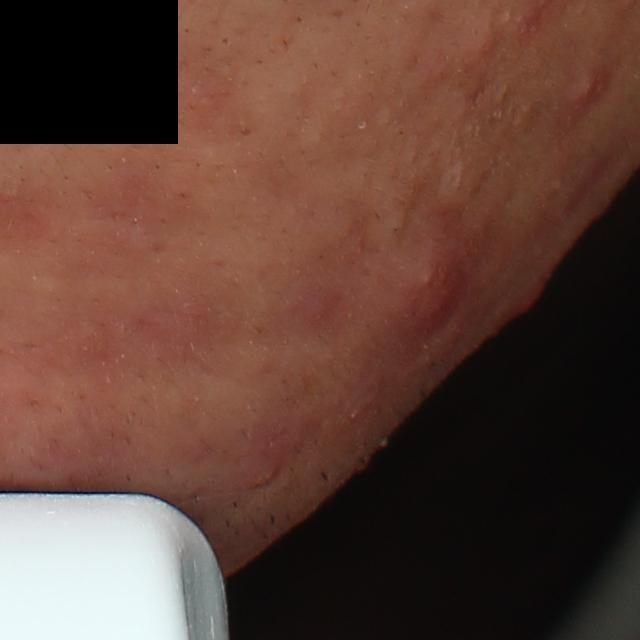papule: (362, 235, 472, 363), (508, 270, 553, 320), (467, 26, 499, 66)
